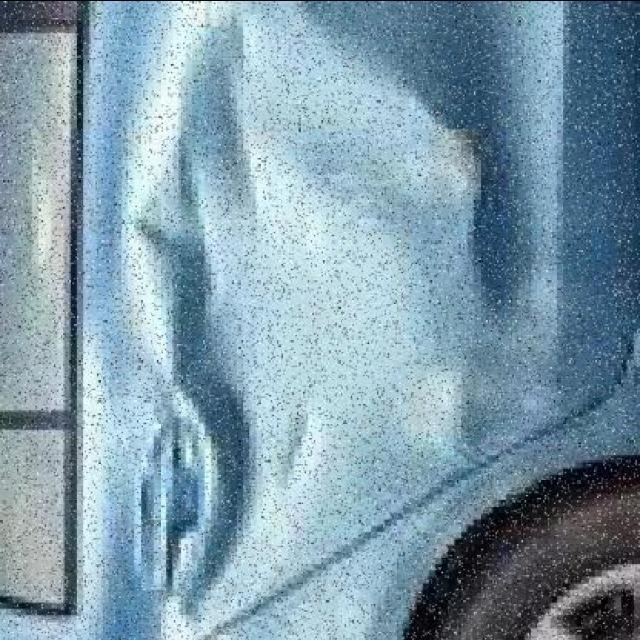doorouter-dent: (77, 6, 500, 569)
